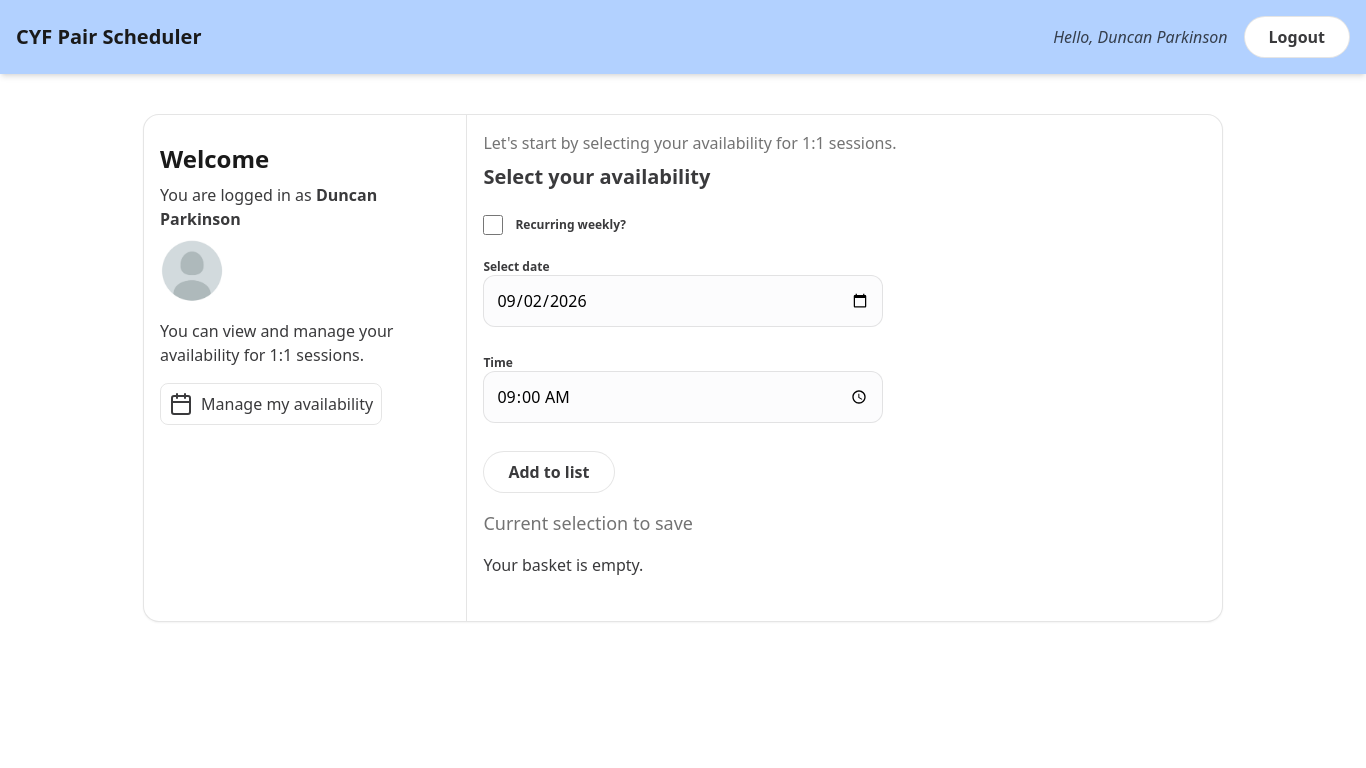
Test: Volunteer flow › allows volunteer to save a recurring availability
Check: the text "Let's start by selecting your availability for 1:1 sessions." is shown, box [483, 131, 896, 155]
Type "2026-05-15" into the date field labelled "Select date" at [683, 301], box [483, 275, 883, 327]
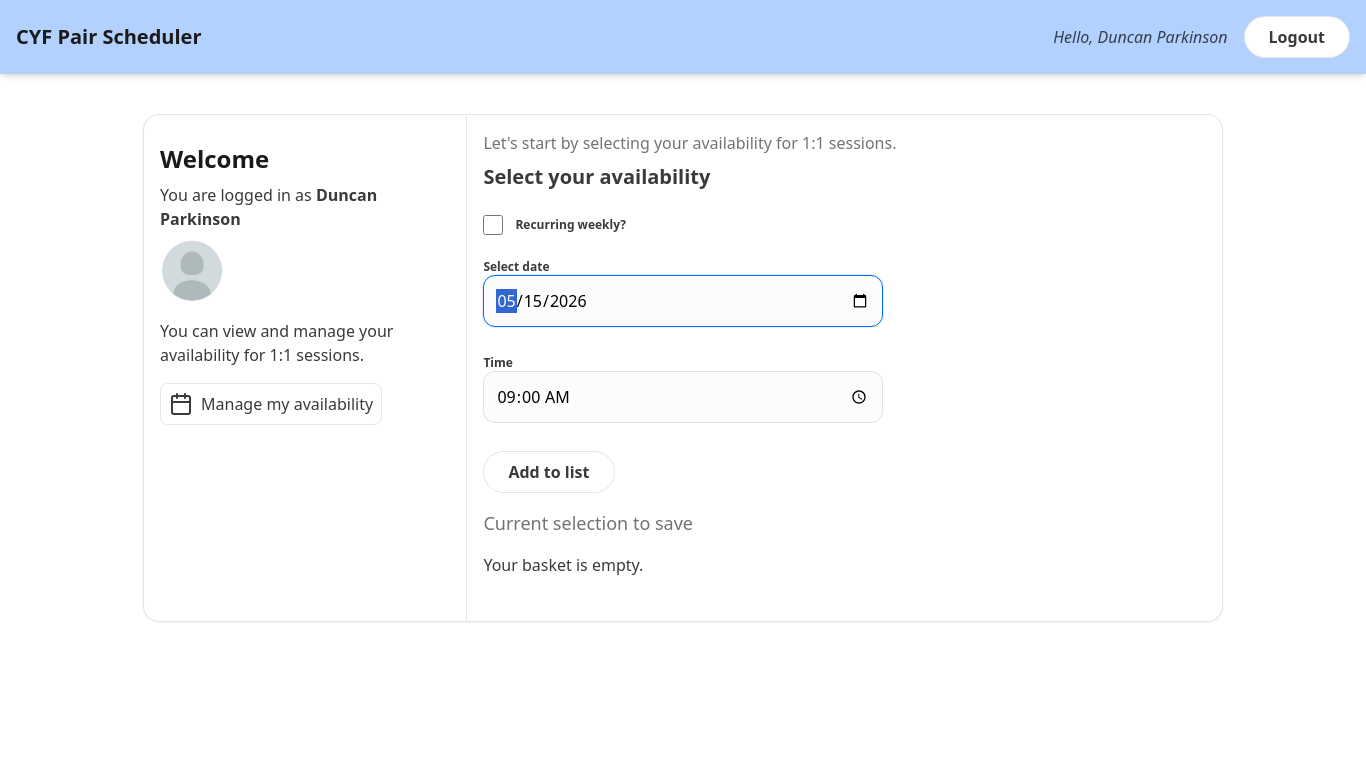
Check: the date field labelled "Select date" holds "2026-05-15", box [483, 275, 883, 327]
Replace the text in the time field labelled "Time" with "14:30" at [683, 397], box [483, 371, 883, 423]
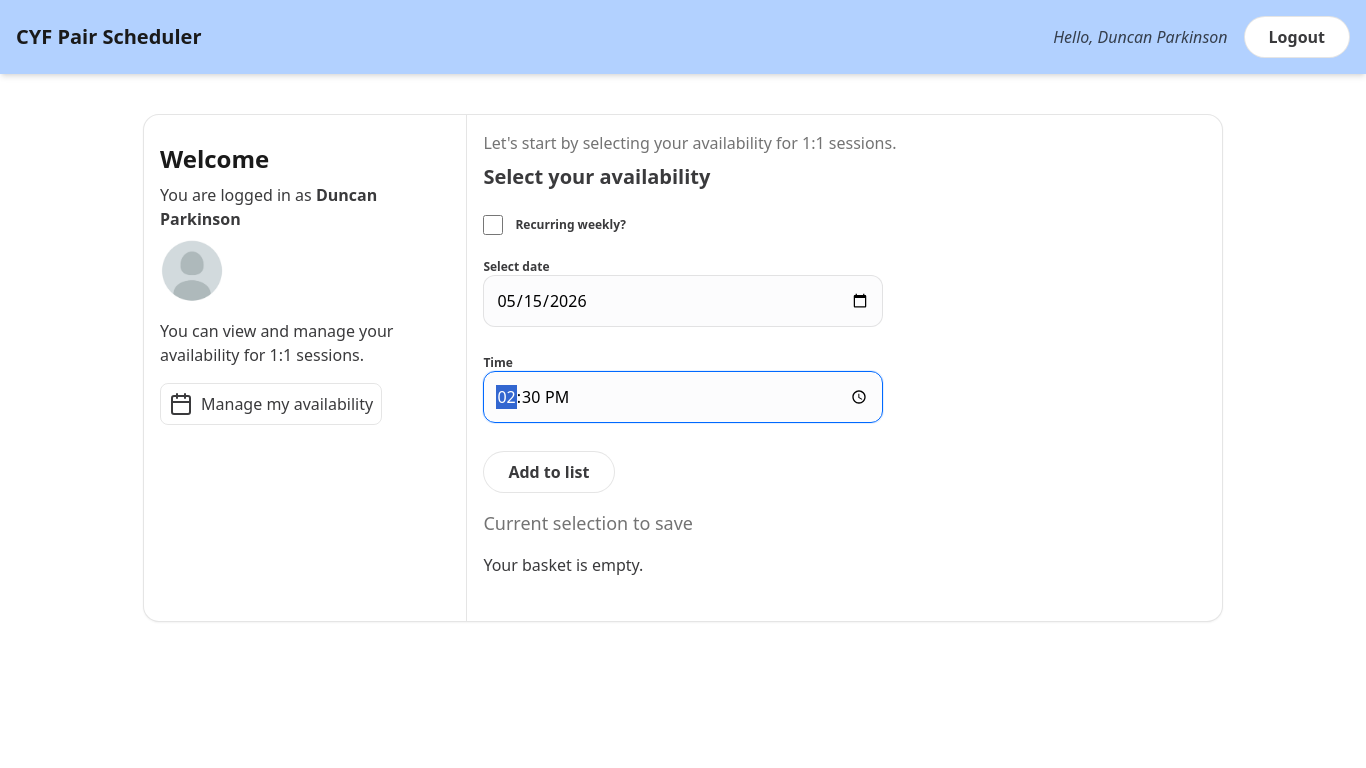
Check: the element with class "form-checkbox" is not checked
Check: the time field labelled "Time" holds "14:30", box [483, 371, 883, 423]
Check the checkbox with class "form-checkbox" at [493, 225], box [483, 215, 503, 235]
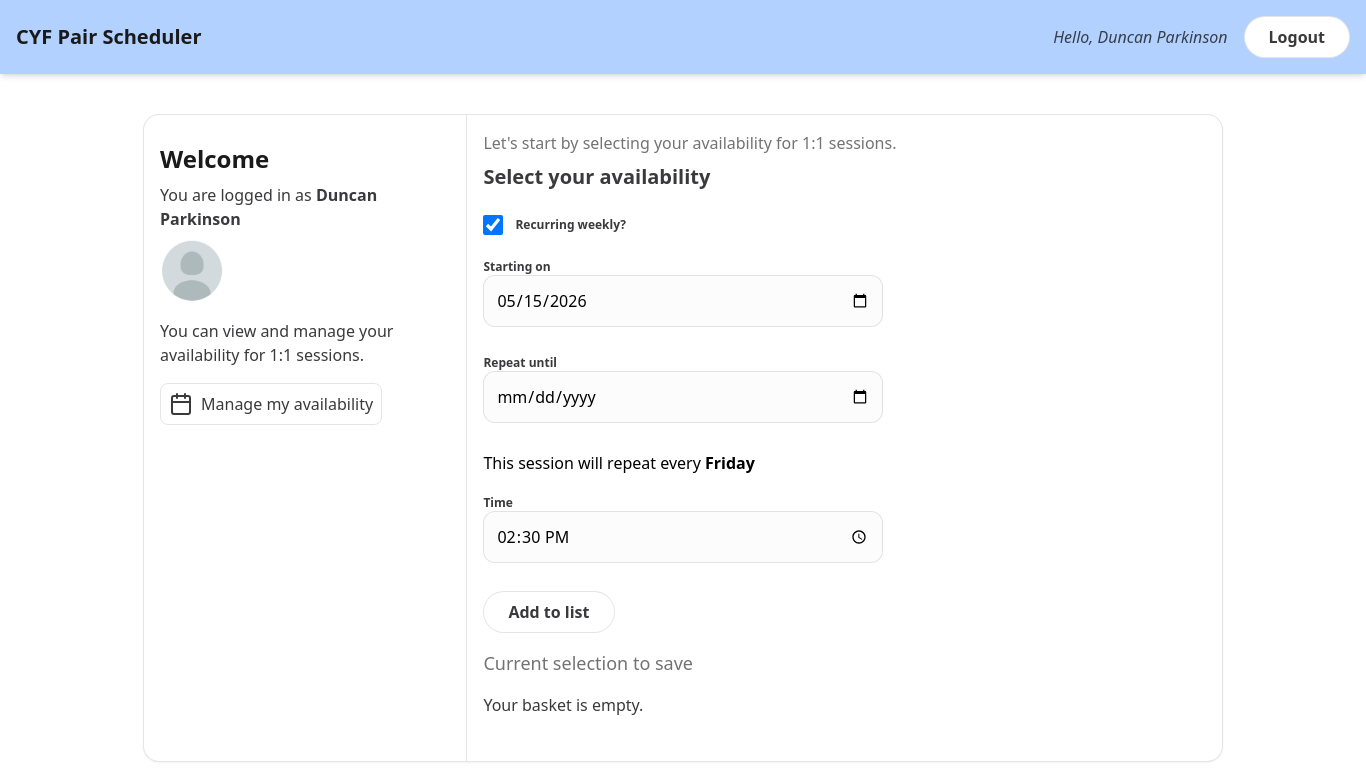
Check: the checkbox with class "form-checkbox" is checked, box [483, 215, 503, 235]
Type "2026-06-15" into the date field labelled "Repeat until" at [683, 397], box [483, 371, 883, 423]
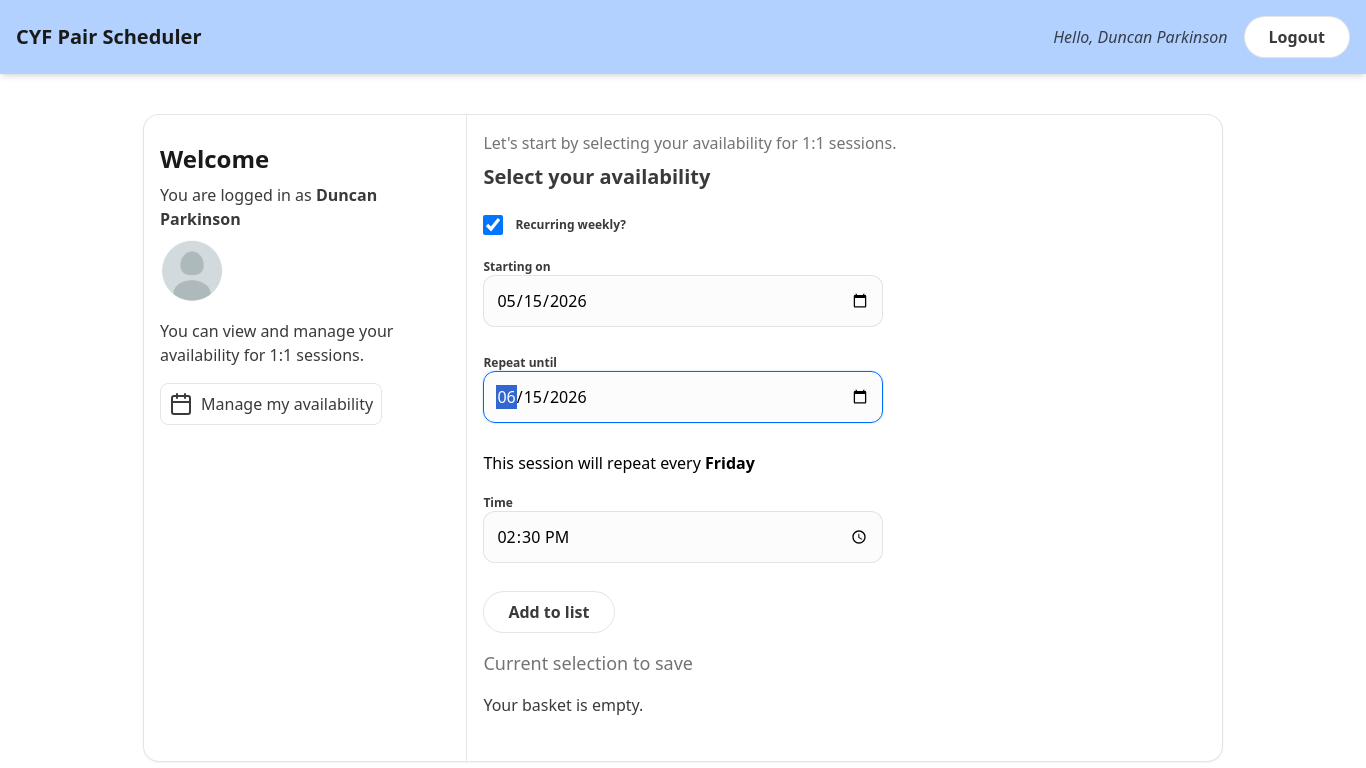
Check: the text "Select date" is not shown
Check: the text "Starting on" is shown, box [483, 258, 551, 275]
Check: the text "This session will repeat every Friday" is shown, box [483, 452, 755, 474]
Click the button "Add to list" at [549, 612], box [483, 591, 614, 633]
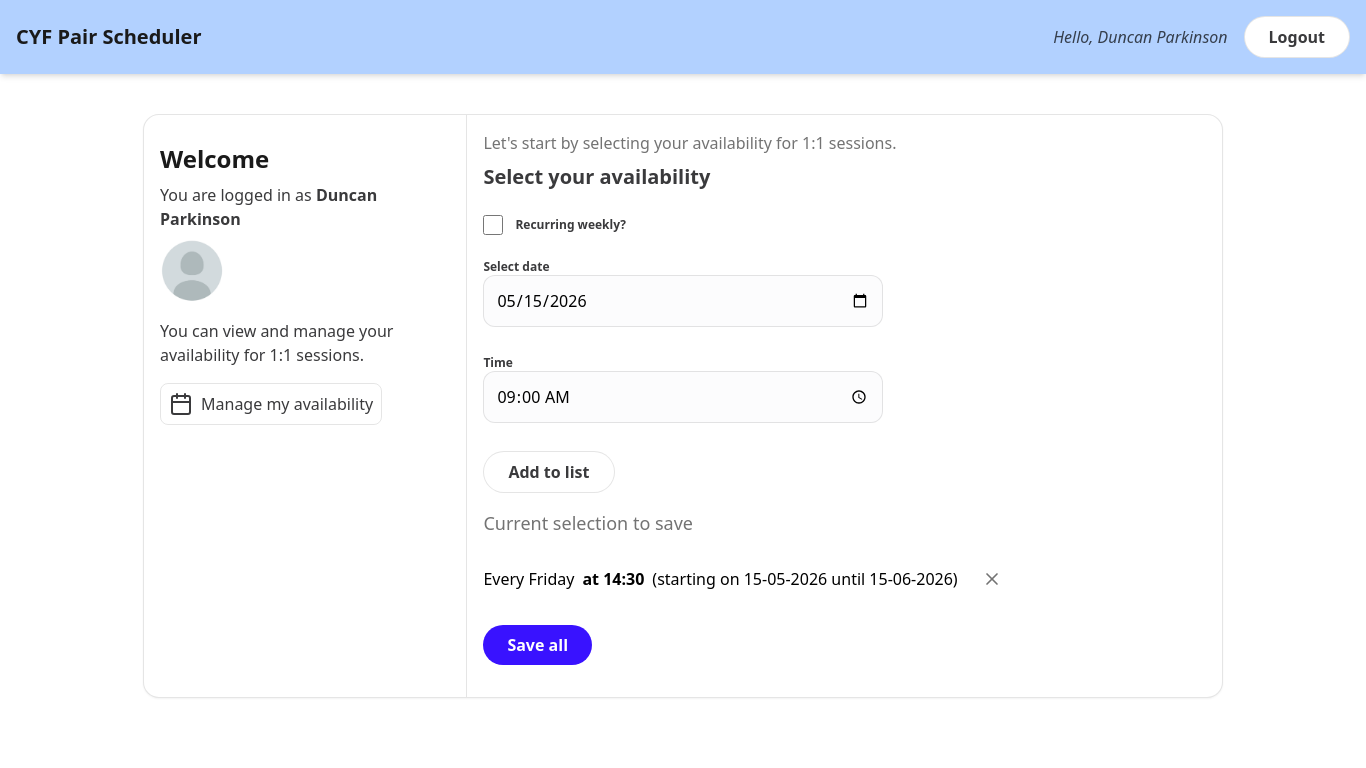
Click the button "Save all" at [538, 645], box [483, 625, 592, 665]
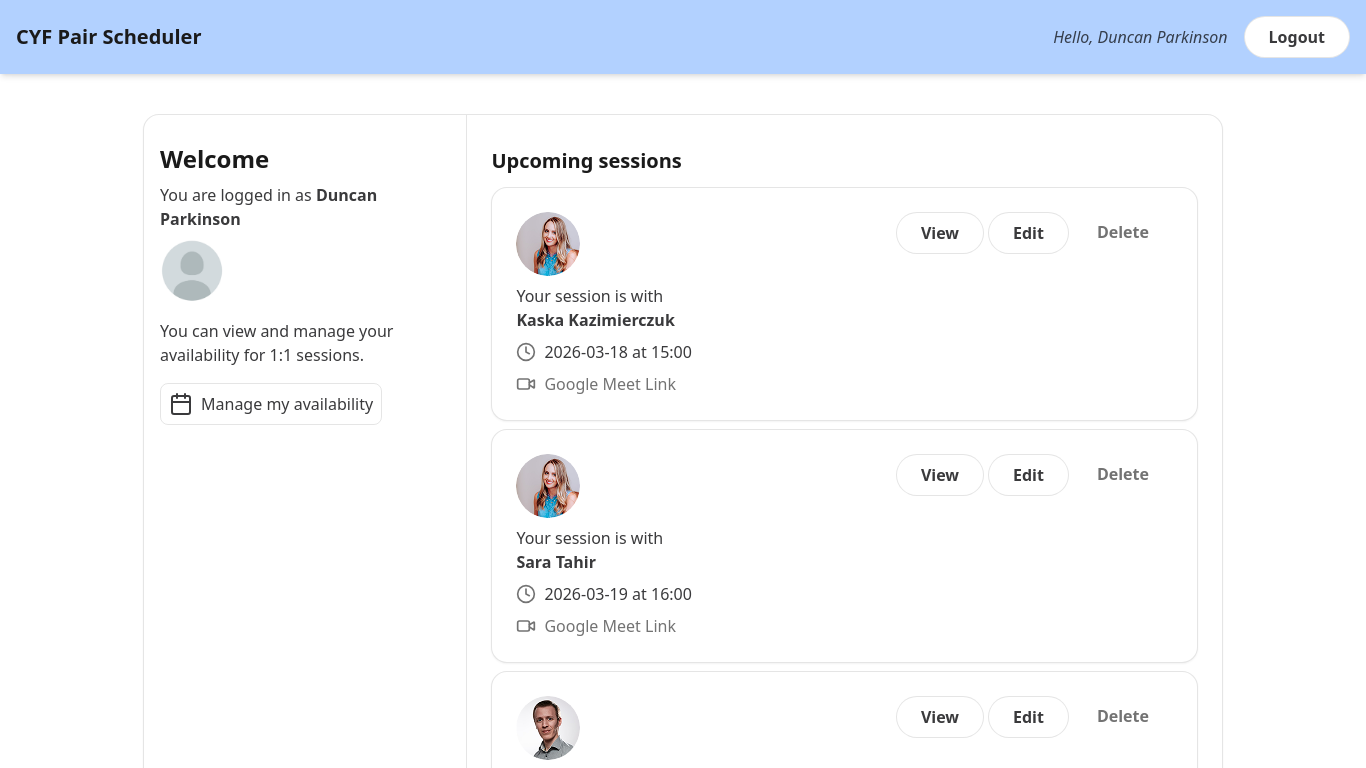
Check: the heading "Upcoming sessions" is shown, box [491, 147, 682, 174]
Check: the element with class "all-cards-container" is shown, box [483, 131, 1206, 767]
